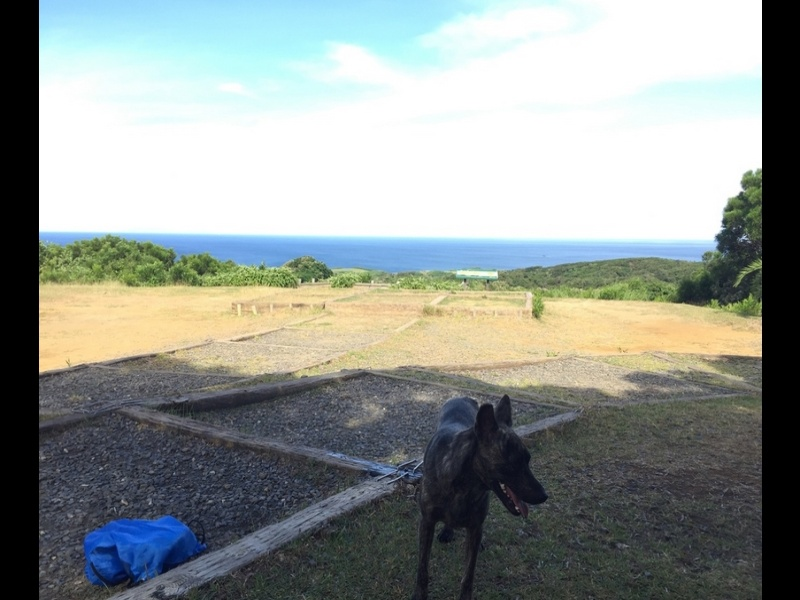dog: (407, 388, 543, 597)
